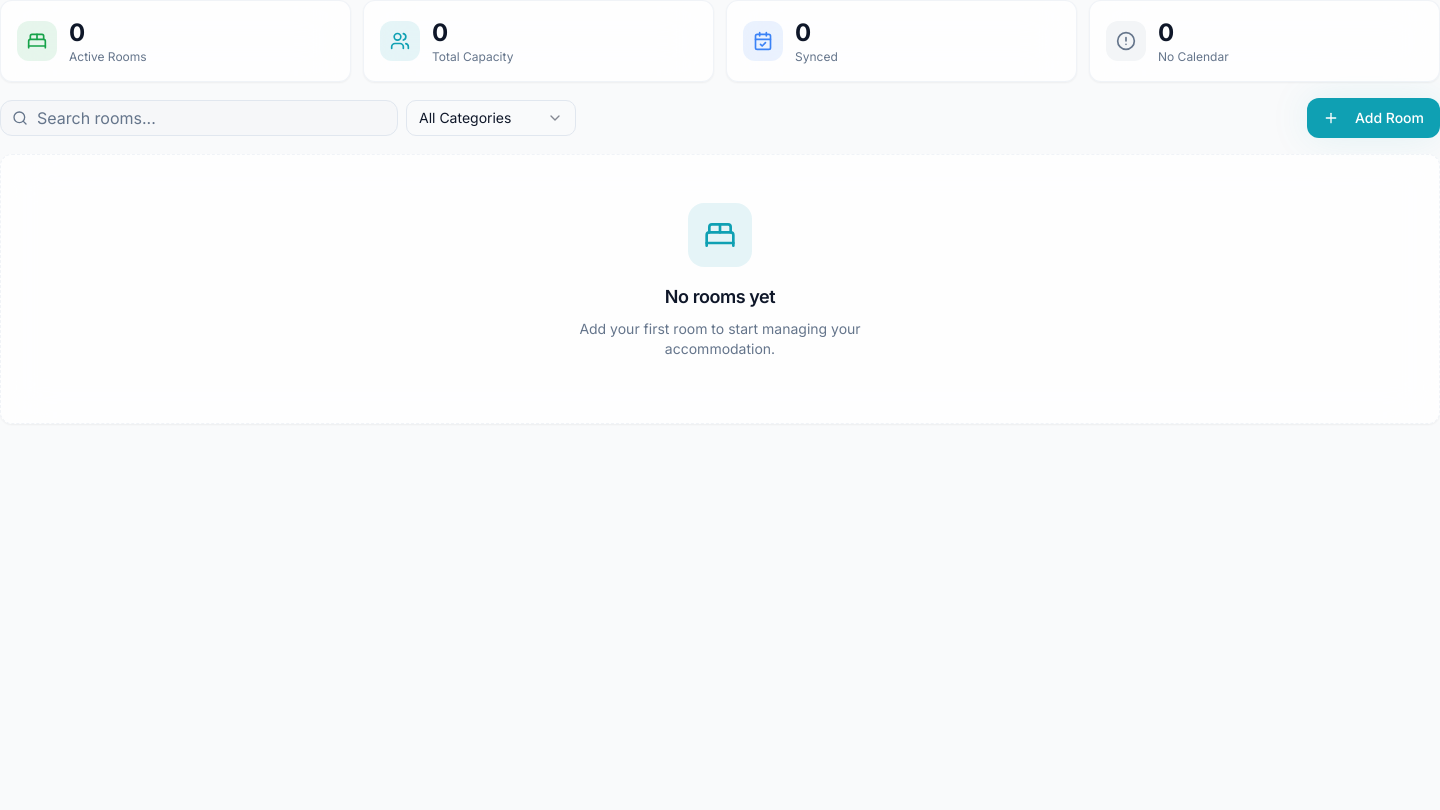
it: RoomsTabContent targeted behaviors › shows a property selector when multiple properties are available
Click the button "Add Room" at (1373, 118), box 1307,98 -> 1439,138
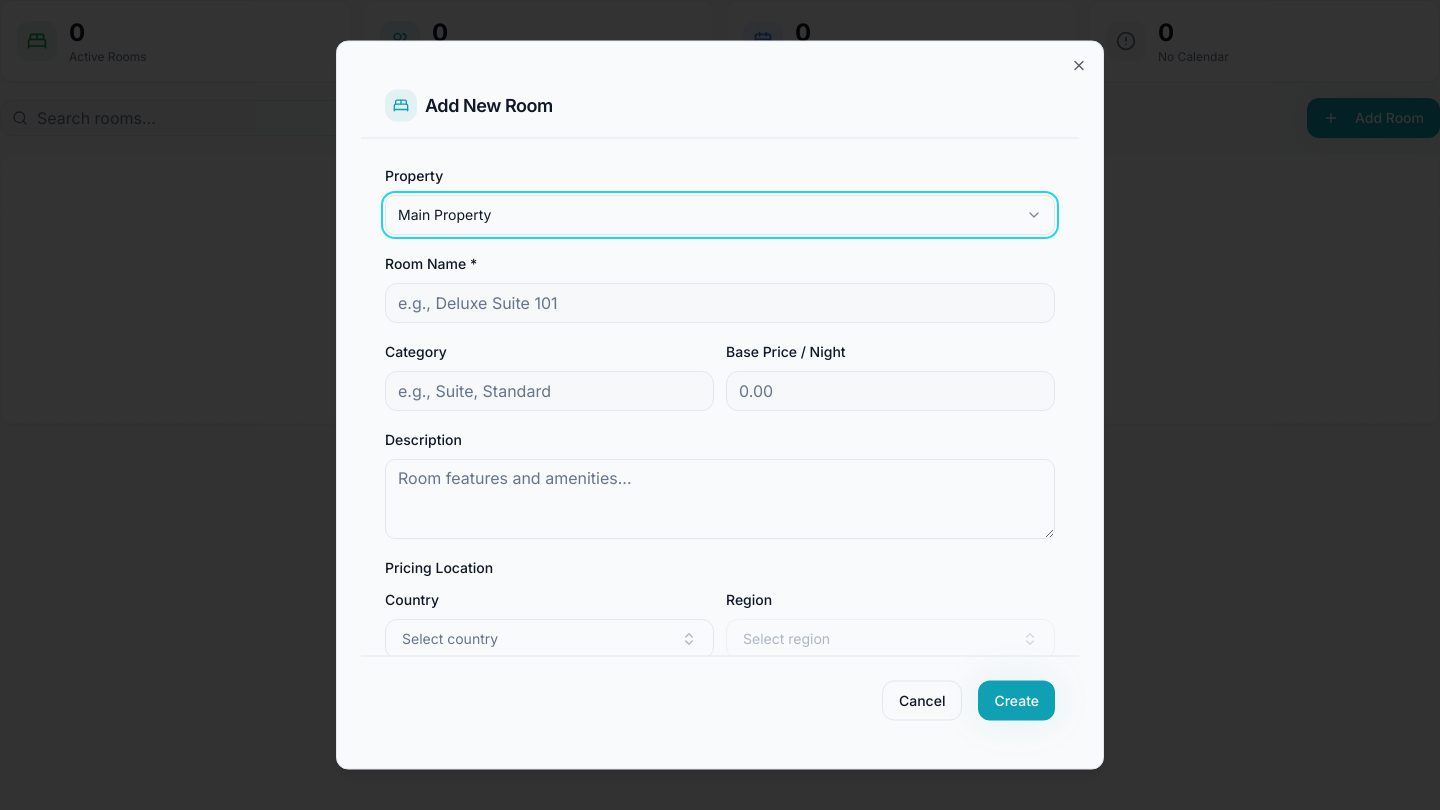
Now the text "Property" is shown, box 385,166 -> 443,184
